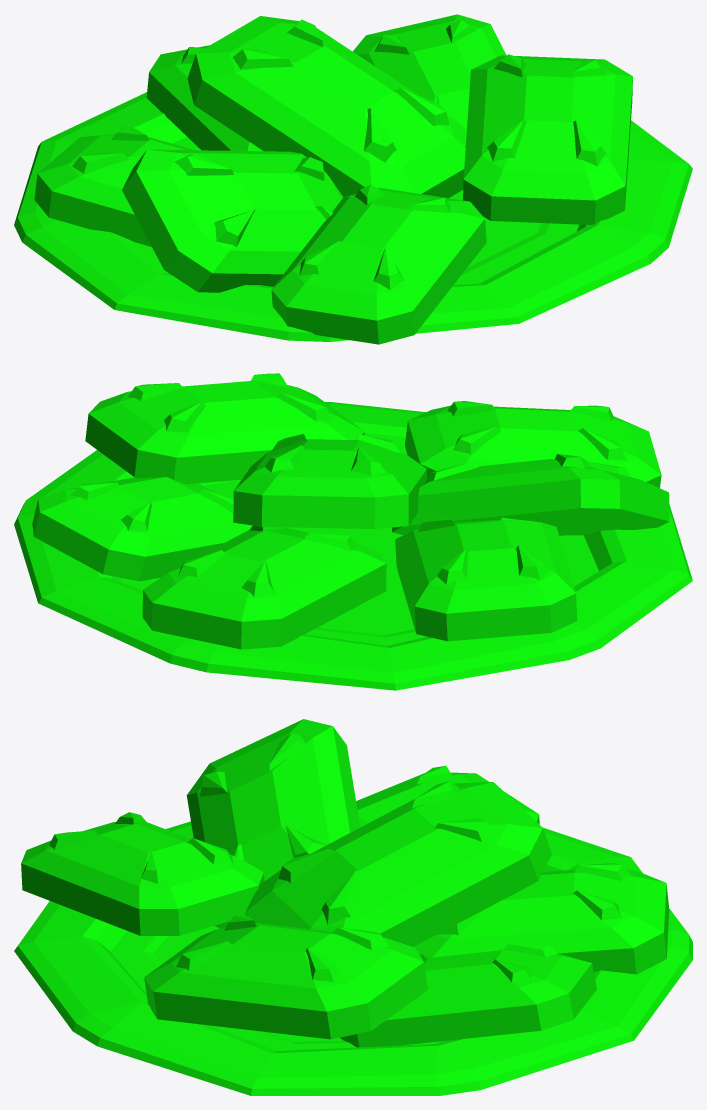
The model's file is SM_Plate_Ginger_Bread_Fantasy.fbx.
3 views of the same model, one above another, from view 1: azimuth 30°, elevation 25°; view 2: azimuth 150°, elevation 25°; view 3: azimuth 270°, elevation 25° (orthographic). The views are drawn at different scales.
Parts seen in each view (by area): view 1: plate-ginger-bread-fantasy; view 2: plate-ginger-bread-fantasy; view 3: plate-ginger-bread-fantasy.
Part boxes in pixels (left/top/right/bottom): plate-ginger-bread-fantasy: left=14, top=14, right=692, bottom=344; plate-ginger-bread-fantasy: left=14, top=373, right=692, bottom=690; plate-ginger-bread-fantasy: left=14, top=719, right=692, bottom=1095.
Size of the model in its own units: 0.3259 by 0.0895 by 0.3227.
